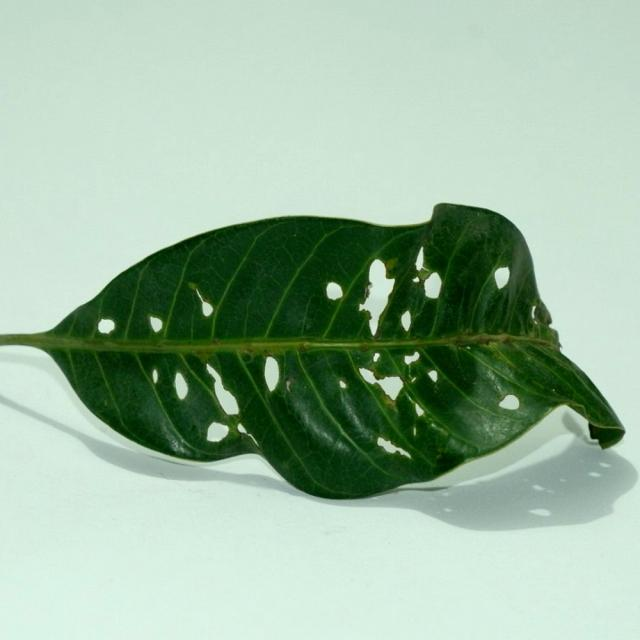Anthracnose: (185, 286, 231, 329), (366, 258, 394, 327), (212, 373, 240, 414), (190, 284, 216, 317), (374, 373, 402, 400), (264, 357, 281, 390), (205, 361, 225, 389), (424, 273, 442, 298), (173, 372, 189, 400), (359, 365, 380, 386), (377, 437, 399, 454), (493, 266, 510, 288), (498, 394, 521, 410), (414, 250, 428, 275), (325, 281, 343, 300), (97, 318, 116, 334), (149, 315, 164, 333), (401, 310, 413, 331), (366, 313, 376, 336), (220, 423, 234, 439), (405, 351, 421, 365), (414, 402, 425, 418), (531, 303, 540, 322), (427, 369, 439, 383), (151, 368, 159, 385), (187, 282, 199, 291), (338, 379, 348, 389)
Mango: (0, 204, 625, 504)
